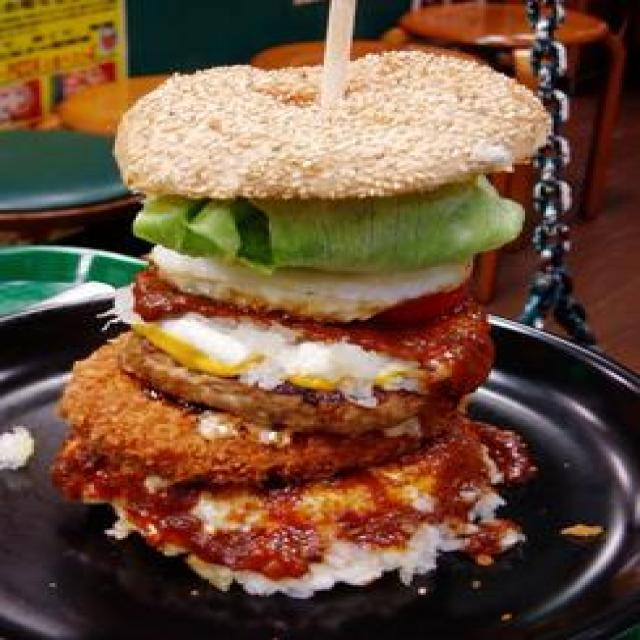Hamburger: (52, 56, 542, 591)
